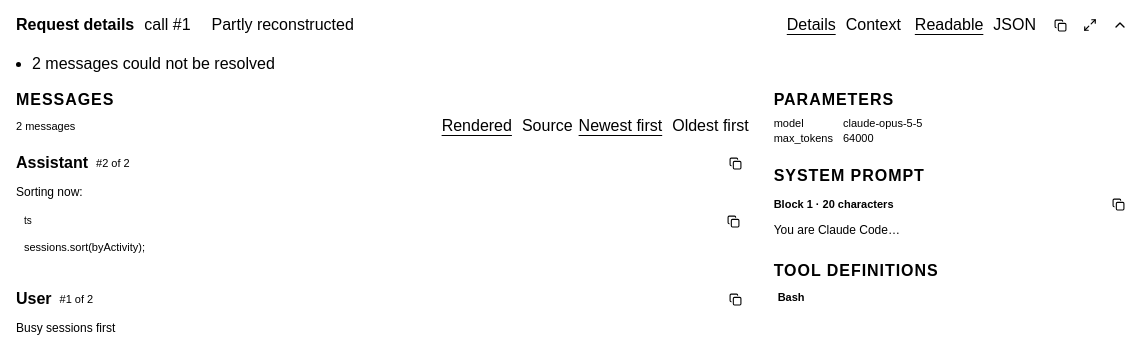
Test: DetailPanel › shows what was sent readable by default, with the JSON one click away and remembered
expect the text "Partly reconstructed" is shown: met, box top-left (212, 17), bottom-right (354, 33)
expect the text "sessions.sort(byActivity);" is shown: met, box top-left (24, 241), bottom-right (145, 253)
Click the radio button labelled "JSON": (1015, 25) top-left (993, 16), bottom-right (1036, 34)
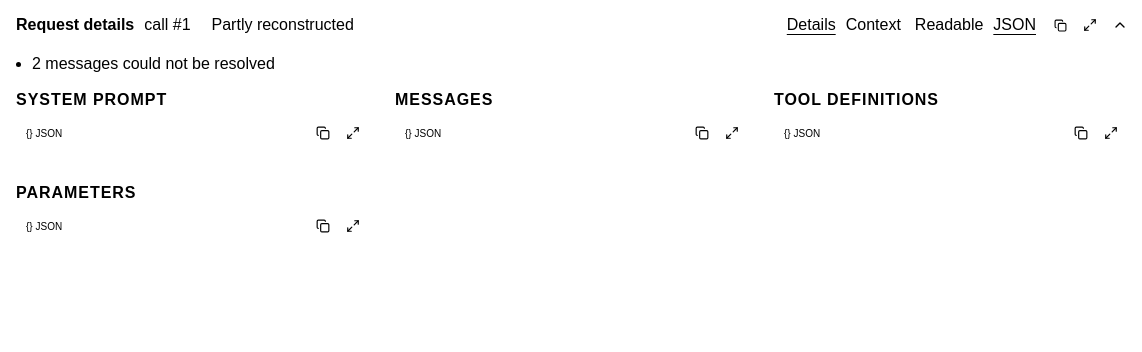
expect the text "{} JSON" is shown 4 times: met, box top-left (26, 128), bottom-right (62, 138); top-left (405, 128), bottom-right (441, 138); top-left (784, 128), bottom-right (820, 138); top-left (26, 220), bottom-right (62, 232)
